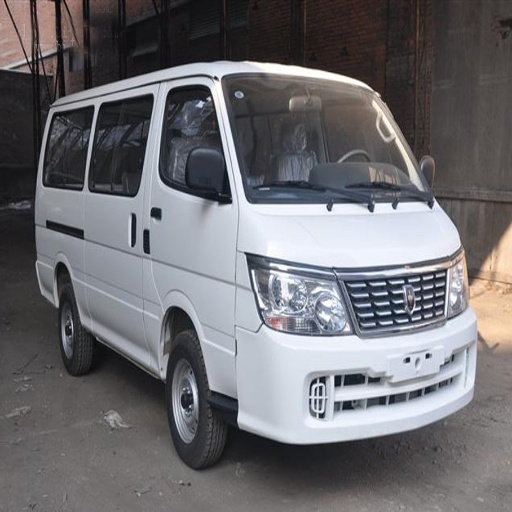front_bumper: (204, 310, 476, 443)
front_left_light: (447, 251, 469, 317)
front_right_door: (113, 82, 236, 355)
front_right_light: (255, 260, 353, 335)
hood: (255, 205, 461, 331)
